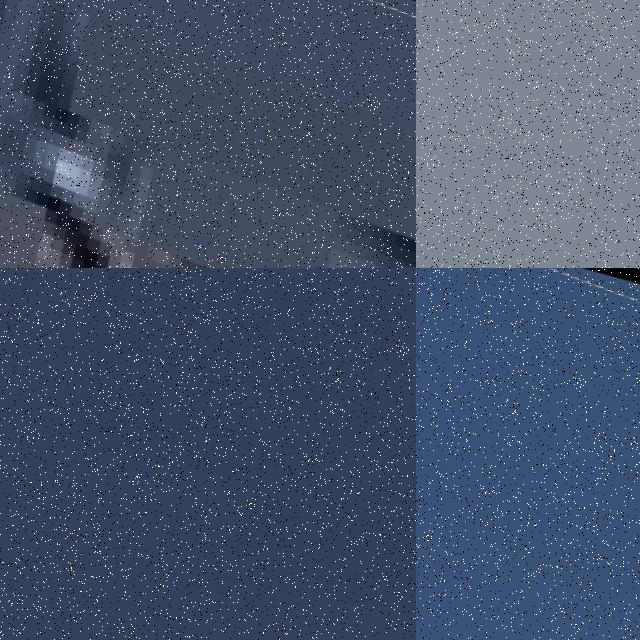0: (0, 0, 416, 268)
drone: (416, 268, 640, 640)
